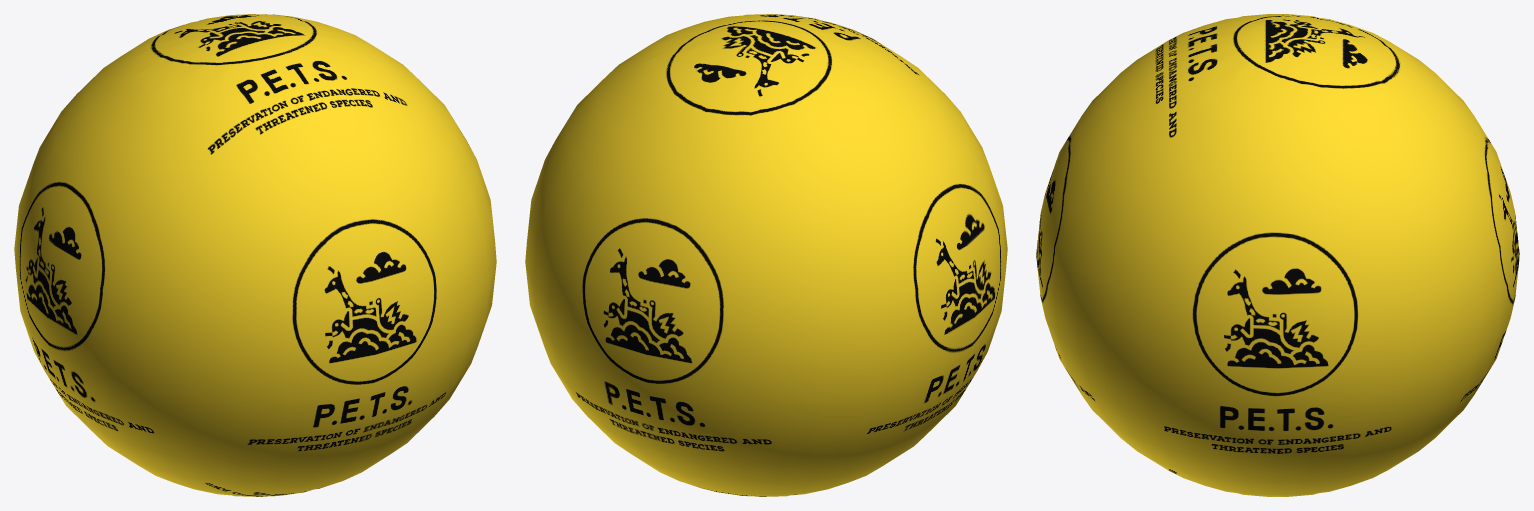
Rendered from toyBallYELLOW.fbx.
3 renders of one model, left to right at view 1: azimuth 30°, elevation 25°; view 2: azimuth 150°, elevation 25°; view 3: azimuth 270°, elevation 25°, orthographic.
Parts seen in each view (by area): view 1: Sphere; view 2: Sphere; view 3: Sphere.
Boxes of the visible parts, bbox=[...] form: Sphere: bbox=[14, 14, 496, 496]; Sphere: bbox=[525, 14, 1007, 496]; Sphere: bbox=[1036, 14, 1519, 496].
Size of the model in its own units: 2 by 2 by 2.
